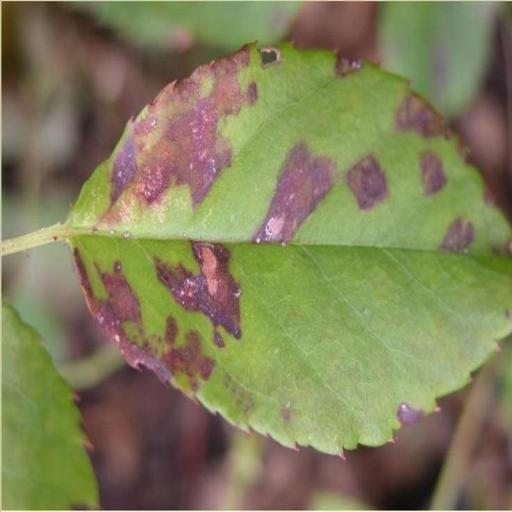downy_mildew: (68, 46, 511, 453)
healthy_leaf: (2, 303, 97, 509)
